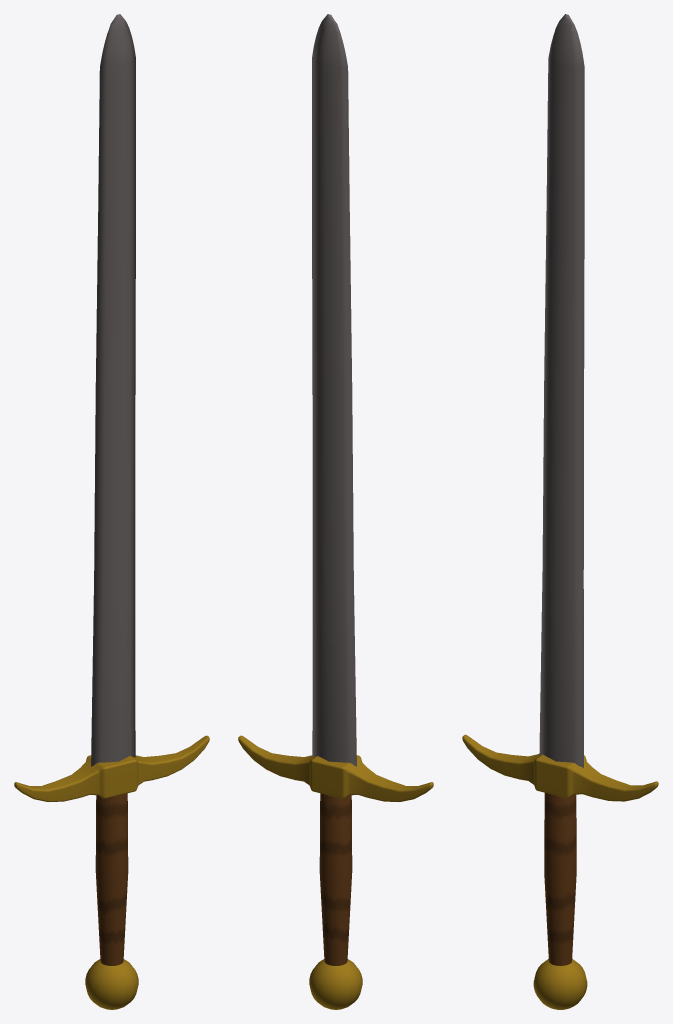
The model's file is PerkSword.obj.
3 views of the same model, side by side, from view 1: azimuth 30°, elevation 25°; view 2: azimuth 150°, elevation 25°; view 3: azimuth 330°, elevation 25° (orthographic).
Visible parts, largest first — view 1: SwordPerk; view 2: SwordPerk; view 3: SwordPerk.
Part boxes in pixels (box(x1,y1,x2,y2)): SwordPerk: box(14, 14, 209, 1009); SwordPerk: box(238, 14, 433, 1009); SwordPerk: box(462, 14, 658, 1009).
Bounding box in the file's own units: 0.5086 × 2.49 × 0.1211.
Materials: 1 (1 with a texture image).
